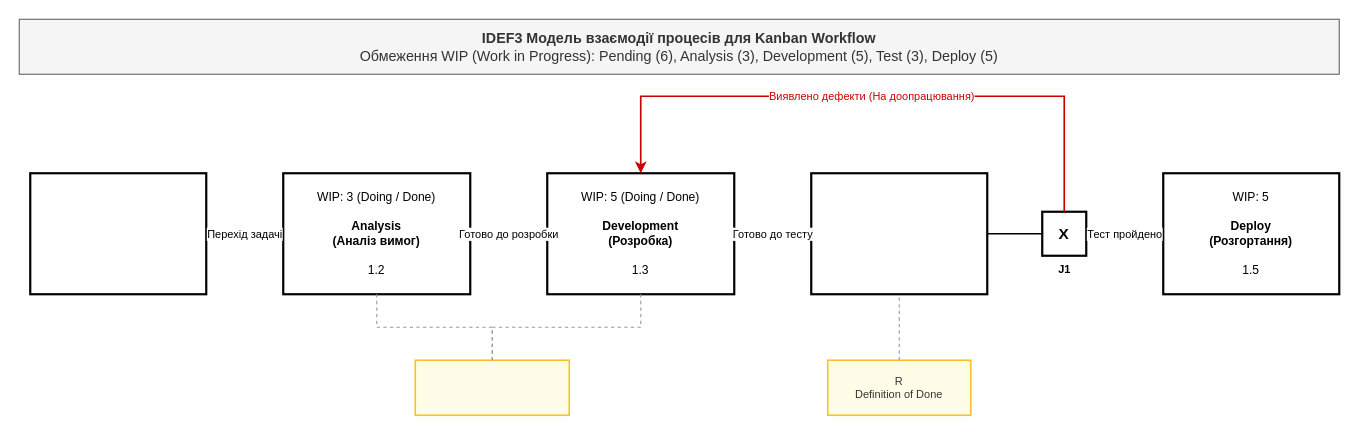
Some shapes in this 1360 by 436 pixel diagram are drawn without their labels. The shapes that lost their labels are listed below. From the top down, each one's centre as x and y in pixels, then its label:
pixel 118 233: WIP: 6 Pending (Черга задач) 1.1
pixel 899 233: WIP: 3 Test (Тестування) 1.4
pixel 492 387: R Kanban WIP Limits
